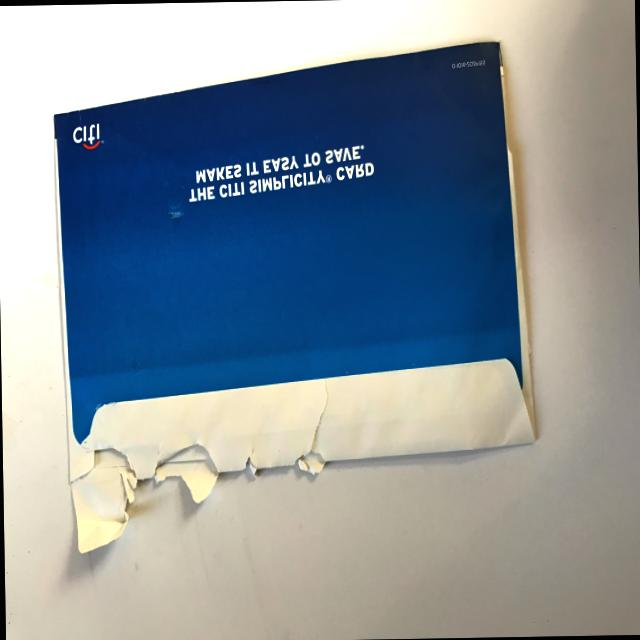Paper: (52, 29, 547, 582)
